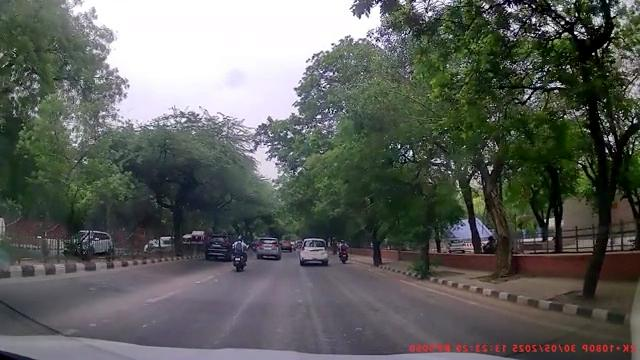motorcycle_with_helmet: (230, 234, 249, 272)
